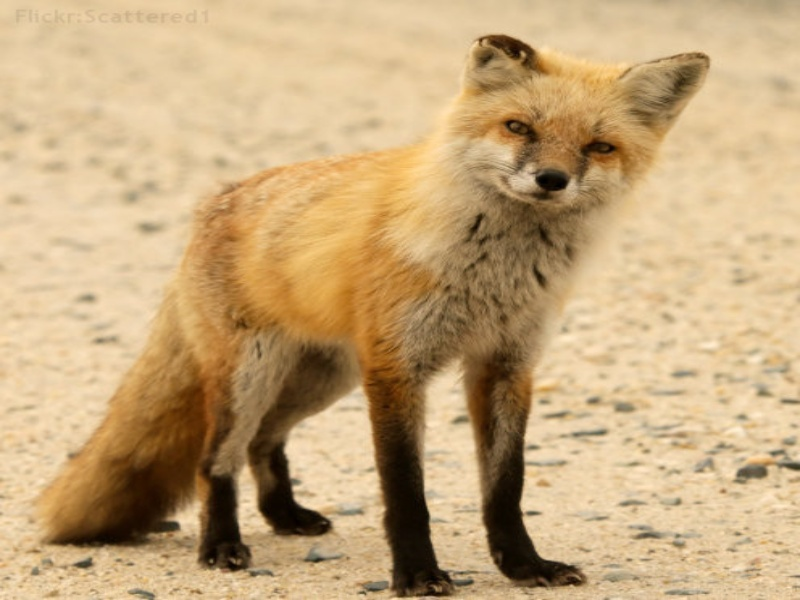fox: (33, 32, 718, 594)
